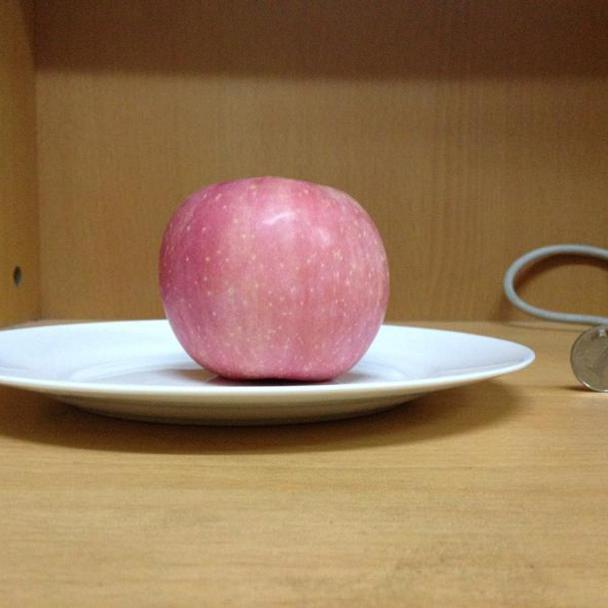apple: (157, 174, 390, 380)
